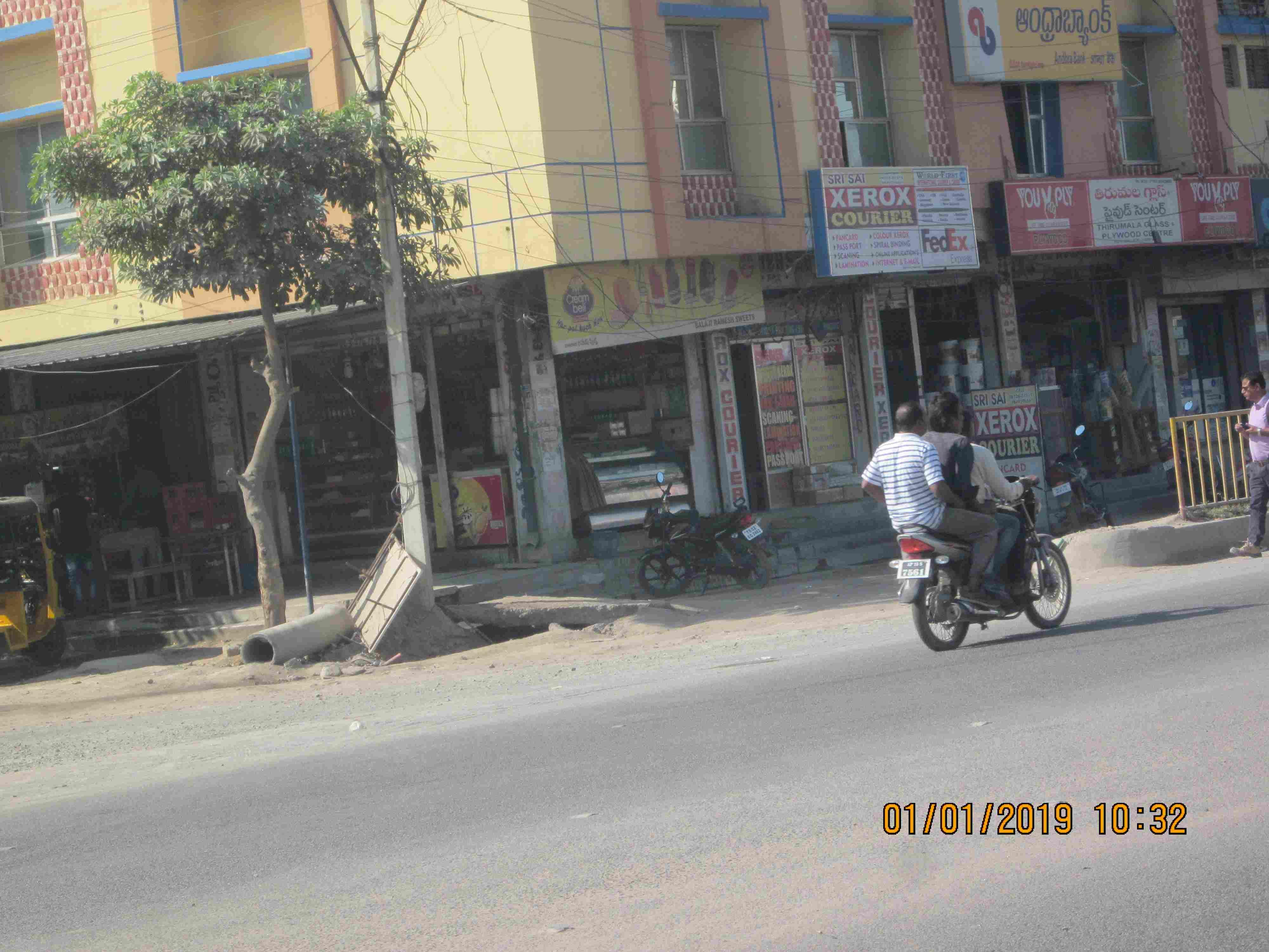plate: (891, 554, 932, 583), (741, 524, 765, 545)
